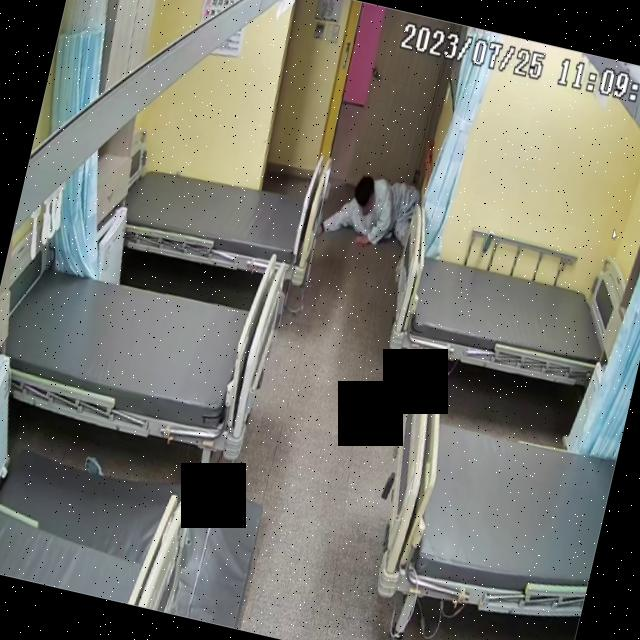bed: (362, 346, 630, 634), (0, 249, 279, 457), (378, 230, 632, 398), (117, 147, 323, 286)
fall: (315, 160, 426, 258)
patient: (315, 162, 425, 256)
